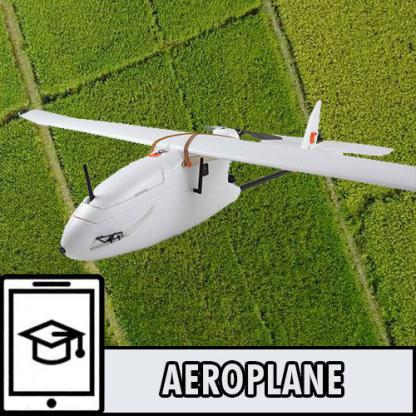CIV_Plane: (14, 104, 415, 281)
